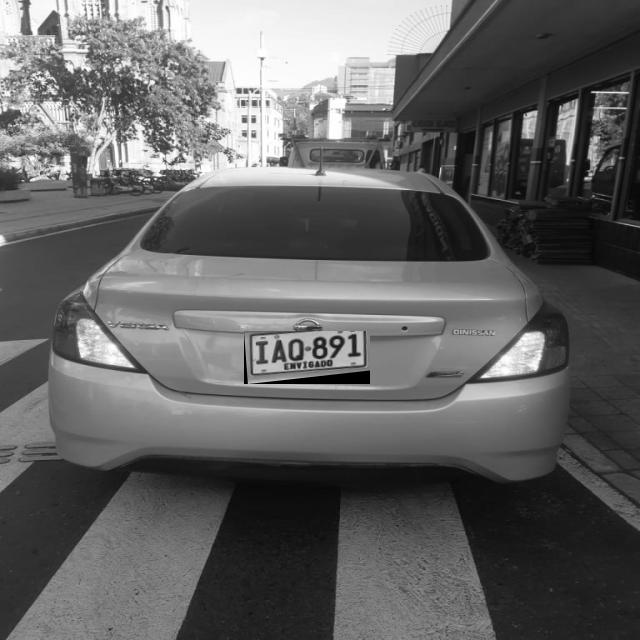plate: (247, 331, 370, 380)
